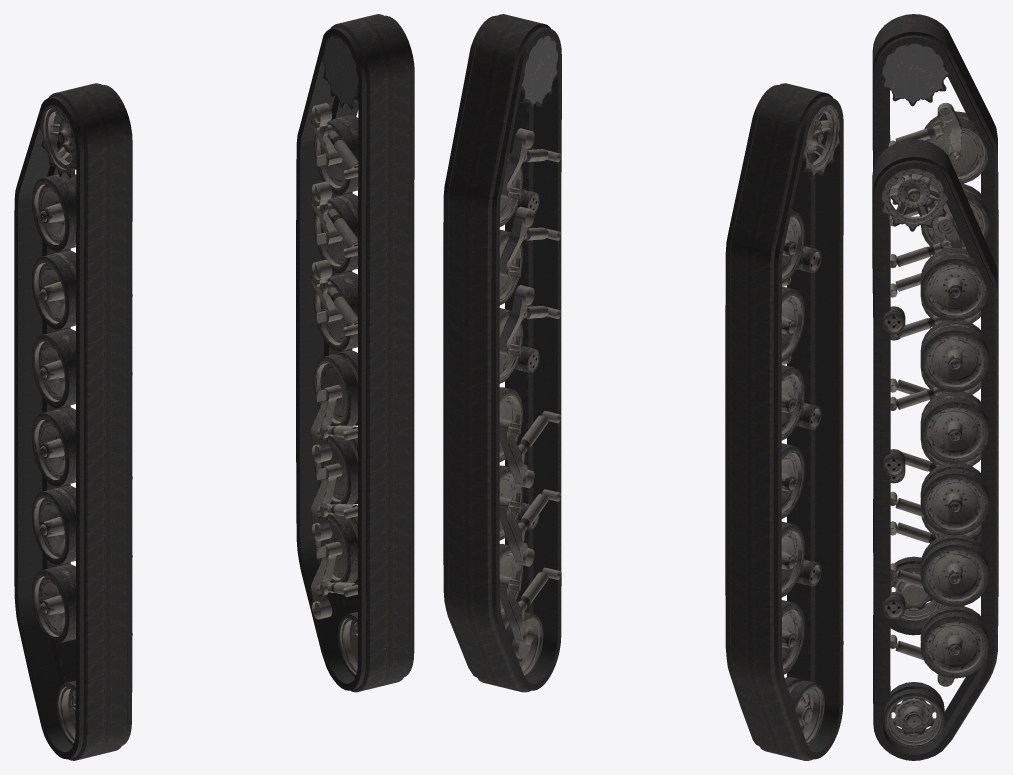
File: Chassis.glb
3 renders of one model, left to right at view 1: azimuth 30°, elevation 25°; view 2: azimuth 150°, elevation 25°; view 3: azimuth 270°, elevation 25°, orthographic. The views are drawn at different scales.
Parts seen in each view (by area): view 1: set_0_group_0, set_1_group_0, set_3_group_0, set_2_group_0; view 2: set_0_group_0, set_1_group_0, set_3_group_0, set_2_group_0; view 3: set_3_group_0, set_1_group_0, set_2_group_0, set_0_group_0.
Part boxes in pixels (x1,y1,x2,y2): set_0_group_0: (14,83,132,760); set_1_group_0: (296,14,414,692); set_3_group_0: (311,35,358,677); set_2_group_0: (31,105,132,745); set_0_group_0: (725,83,843,760); set_1_group_0: (443,14,561,692); set_3_group_0: (499,35,561,677); set_2_group_0: (752,105,839,745); set_3_group_0: (882,168,988,748); set_1_group_0: (872,139,998,760); set_2_group_0: (882,43,988,623); set_0_group_0: (872,14,998,635).
Bounding box in the file's own units: 3.44 × 6.51 × 1.23.
4 materials, 4 textured.
